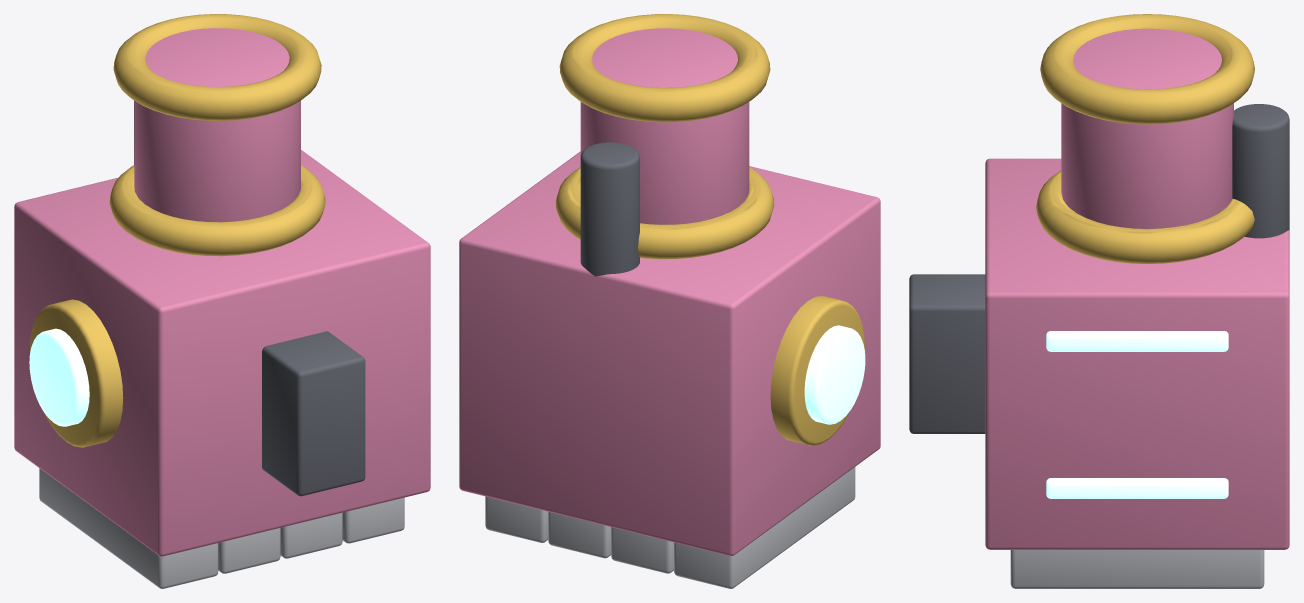
Rendered from vi_gauntletR.glb.
3 renders of one model, left to right at view 1: azimuth 30°, elevation 25°; view 2: azimuth 150°, elevation 25°; view 3: azimuth 270°, elevation 25°, orthographic. The views are drawn at different scales.
Parts seen in each view (by area): view 1: vi_gauntletR; view 2: vi_gauntletR; view 3: vi_gauntletR.
Boxes of the visible parts, x1=… form: vi_gauntletR: x1=14, y1=14, x2=430, y2=588; vi_gauntletR: x1=459, y1=14, x2=880, y2=588; vi_gauntletR: x1=909, y1=14, x2=1289, y2=588.
Size of the model in its own units: 0.37 by 0.5172 by 0.375.
